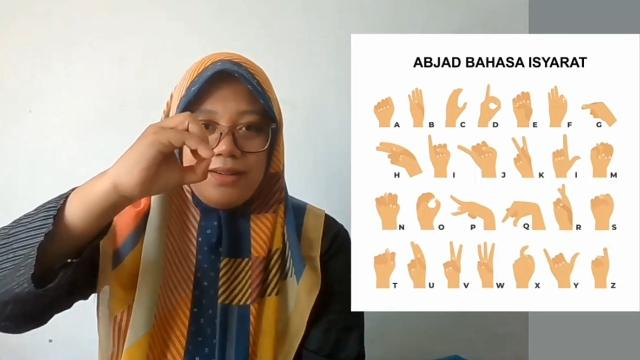O: (114, 109, 214, 204)
